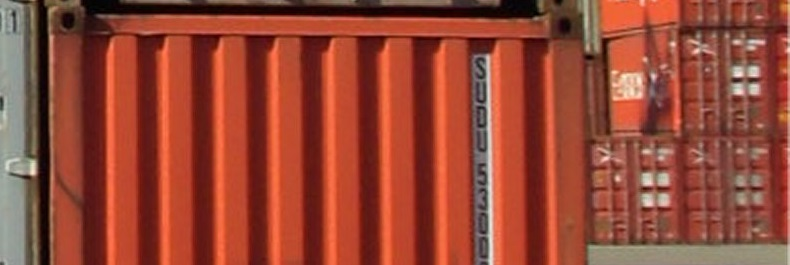container_door: (587, 139, 688, 246), (679, 30, 773, 141), (688, 136, 776, 246)
container_no_door: (41, 6, 588, 265)
